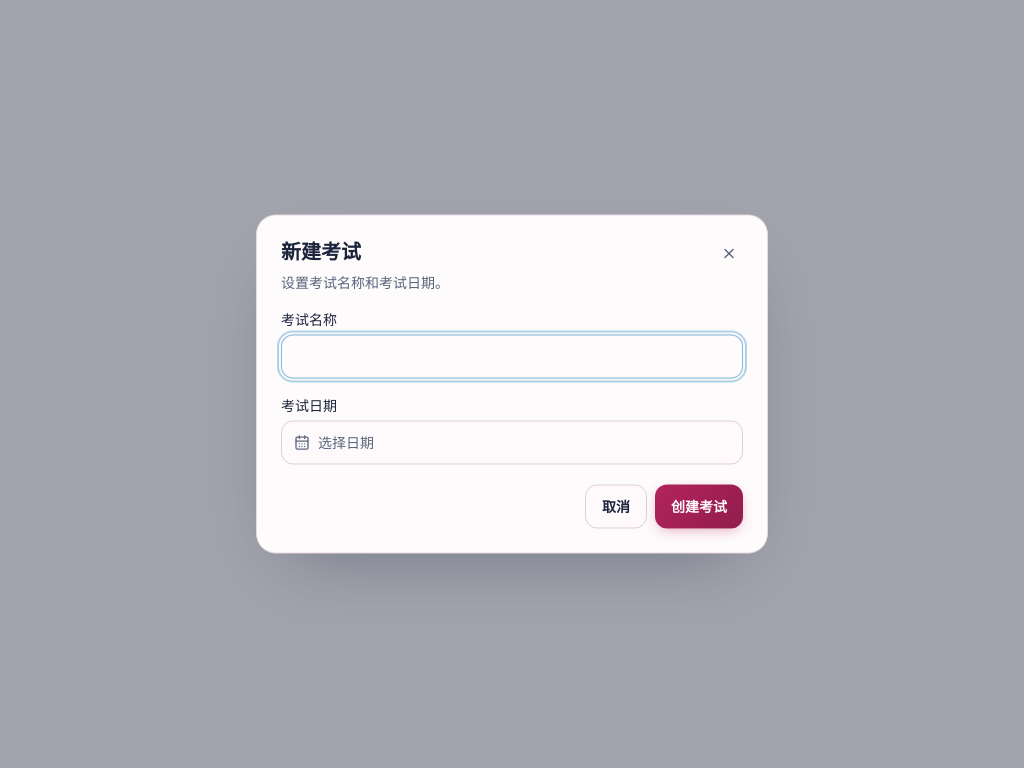
ExamDialog › keeps the form open and shows submit failures
Type "新考试" into the field labelled "考试名称" at [512, 356], box top-left (281, 334), bottom-right (743, 378)
Click the button named "考试日期" at [346, 442], box top-left (281, 420), bottom-right (743, 464)
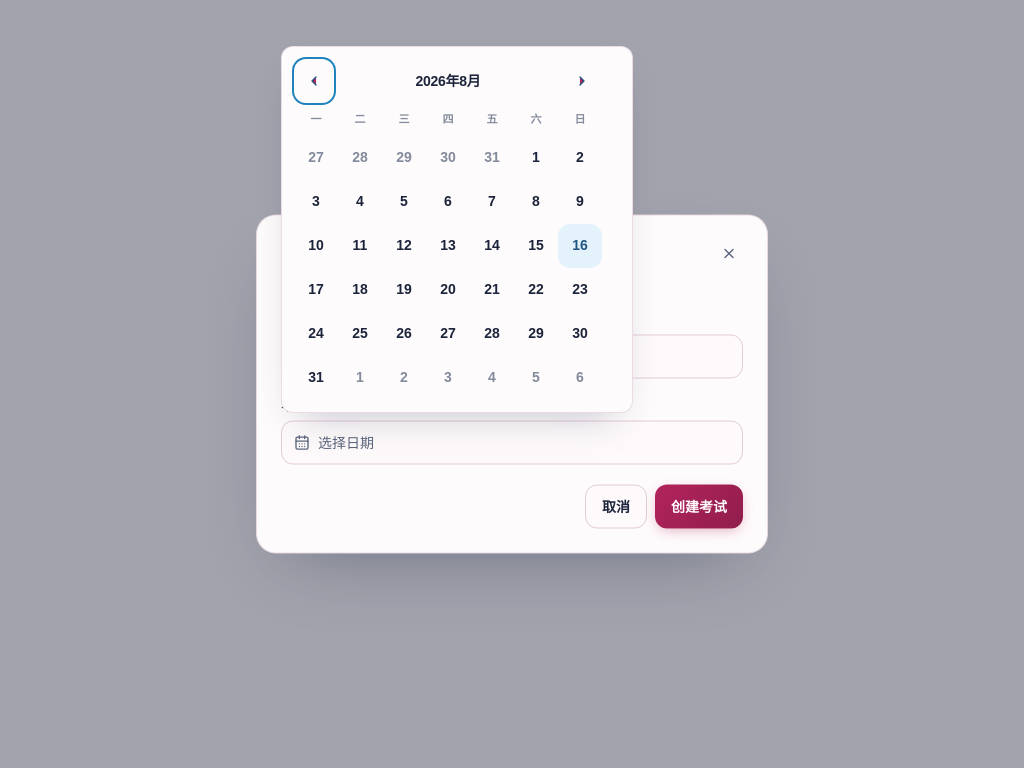
Click the button named "下个月" at [582, 81], box top-left (562, 59), bottom-right (602, 103)
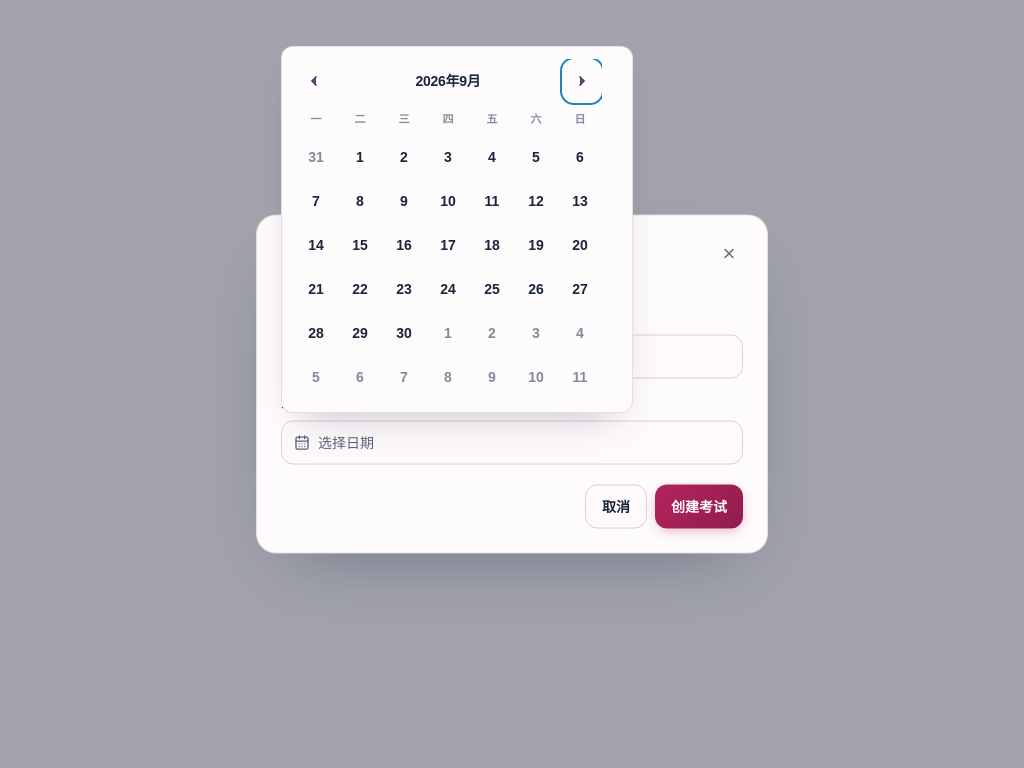
Click the button named "下个月" at [582, 81], box top-left (562, 59), bottom-right (602, 103)
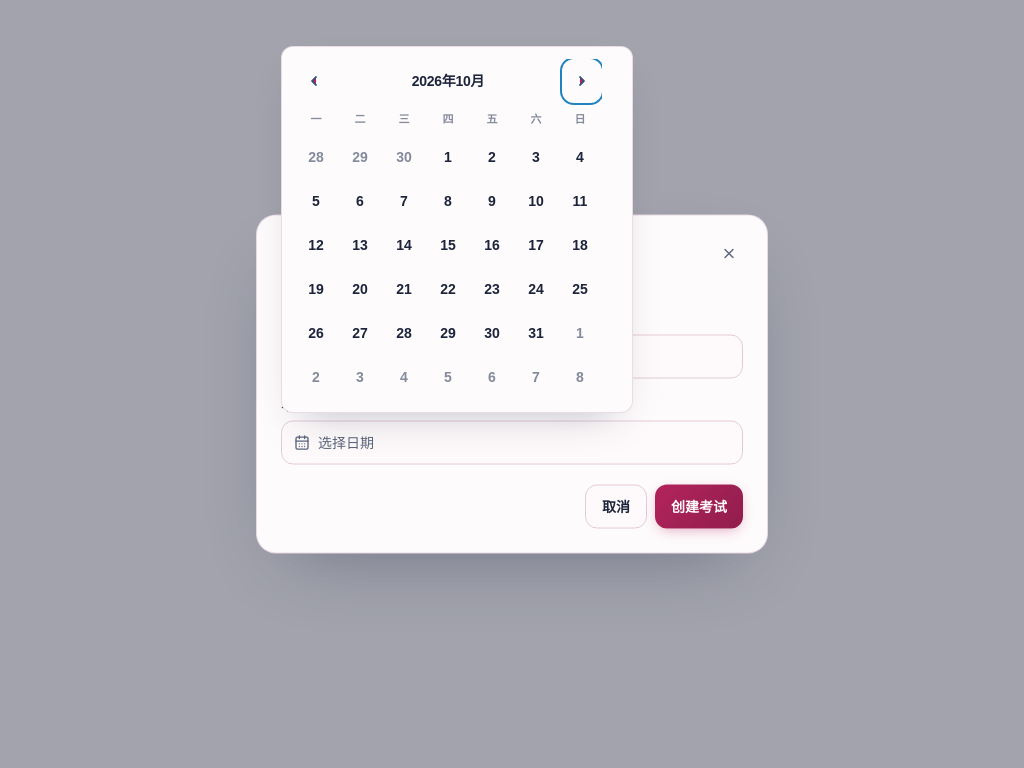
Click the button named "下个月" at [582, 81], box top-left (562, 59), bottom-right (602, 103)
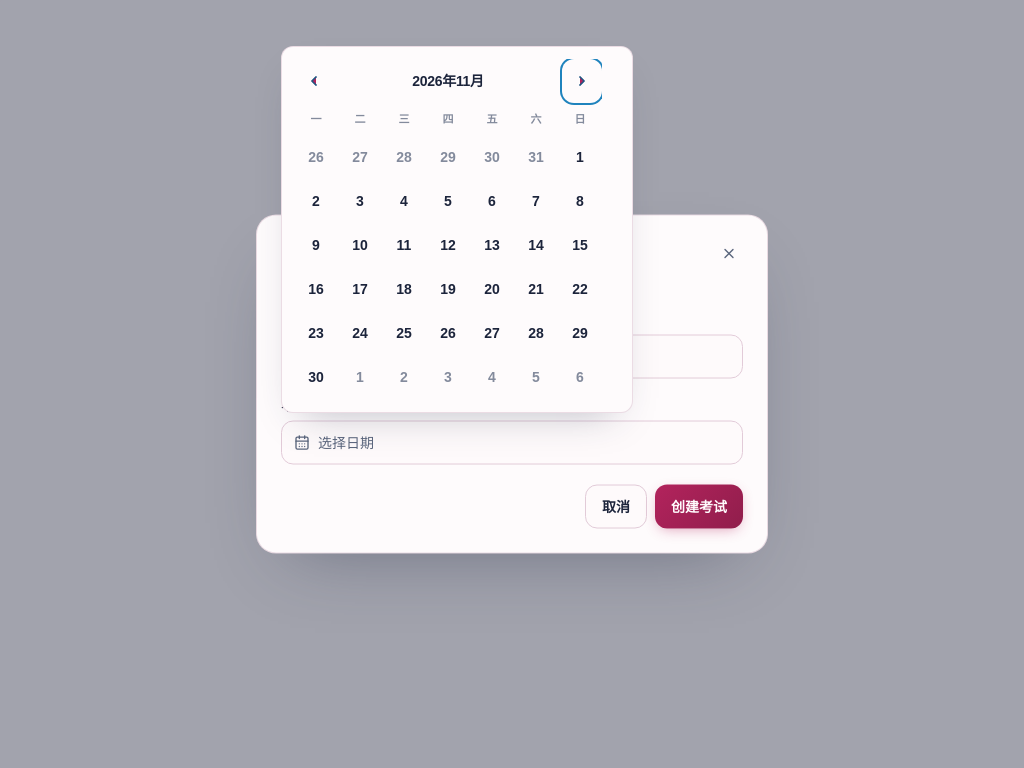
Click the 2nd button "1" at [360, 378], box top-left (338, 356), bottom-right (382, 400)
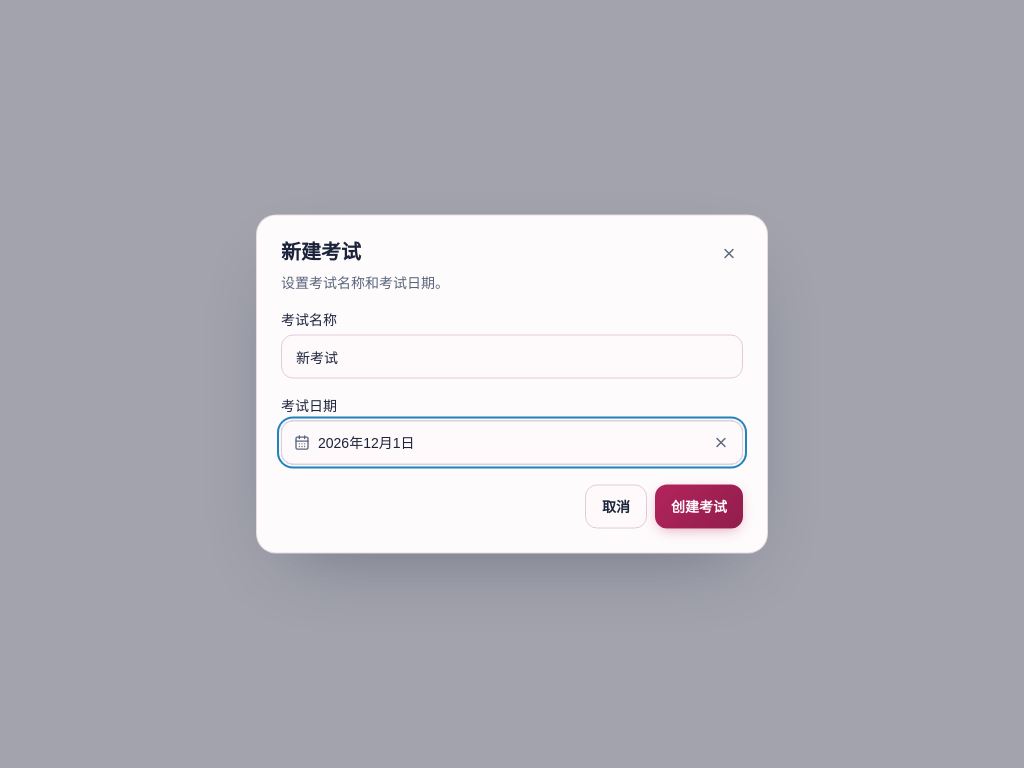
Click the button "创建考试" at [699, 506], box top-left (655, 484), bottom-right (743, 528)
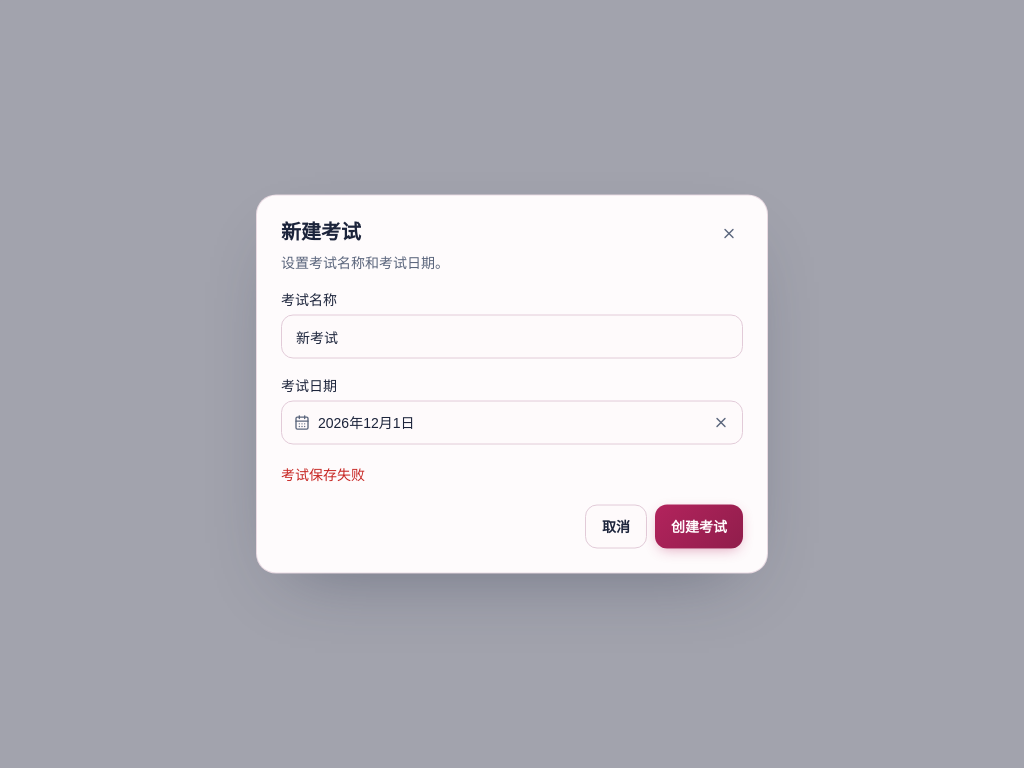
Expected: the dialog "新建考试" is shown, top-left (256, 194), bottom-right (768, 574)
Now the message reads "考试保存失败", box top-left (281, 466), bottom-right (365, 482)
